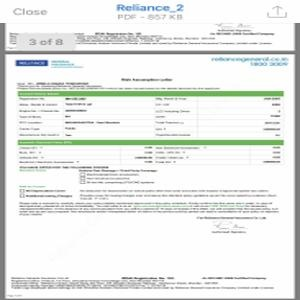image: (16, 58, 50, 66)
table: (17, 92, 287, 142), (16, 141, 284, 164)
text: (210, 56, 291, 70)
